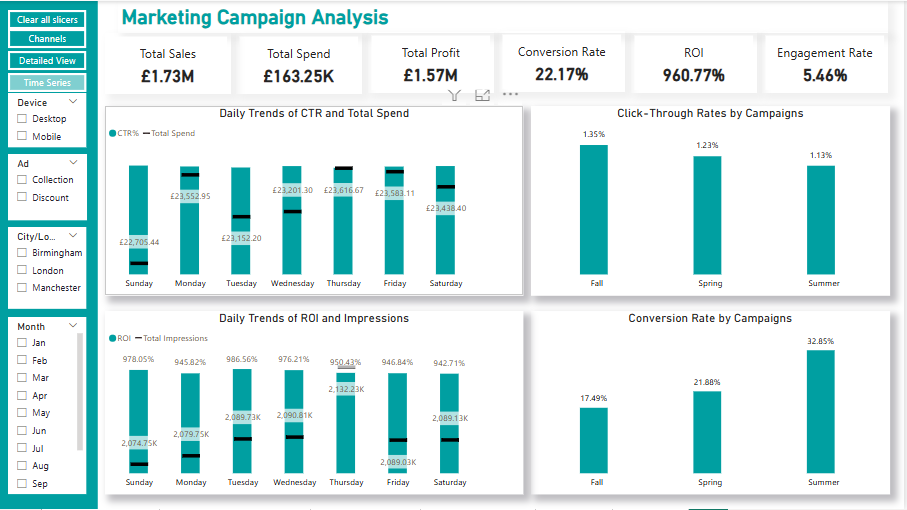

What the dashboard file says about the page in this screenshot:
{"tool":"powerbi","page":{"name":"Time Series Analysis","canvas":[1280,720],"ordinal":1},"visuals":[{"type":"shape","box":[0,0,138.6,720],"z":0},{"type":"shape","box":[138.6,132.9,1141.4,587.1],"z":1000},{"type":"shape","box":[138.6,0,1141.4,132.9],"z":2000},{"type":"lineClusteredColumnComboChart","title":"Daily Trends of CTR and Total Spend","fields":{"Y2":["data.Total Spend"],"Y":["Avg(data.CTR, %)"],"Category":["Calendar.Week"]},"box":[148.6,148.6,592.9,268.6],"z":3000},{"type":"columnChart","title":"Conversion Rate by Campaigns","fields":{"Category":["data.Campaign"],"Y":["data._ConversionRate"]},"box":[752.9,440,508.6,260],"z":4000},{"type":"lineClusteredColumnComboChart","title":"Daily Trends of ROI and Impressions ","fields":{"Category":["Calendar.Week"],"Y2":["data._TotalImpressions"],"Y":["data.ROI"]},"box":[148.6,440,592.9,260],"z":5000},{"type":"lineStackedColumnComboChart","title":"Click-Through Rates by Campaigns","fields":{"Category":["data.Campaign"],"Y":["Avg(data.CTR, %)"]},"box":[752.9,148.6,508.6,268.6],"z":6000},{"type":"slicer","fields":{"Values":["data.Device"]},"box":[11.4,130,111.4,77.1],"z":7000},{"type":"slicer","fields":{"Values":["data.Ad"]},"box":[11.3,216.9,112,93.5],"z":8000},{"type":"slicer","fields":{"Values":["data.City/Location"]},"box":[11.4,320,111.4,115.7],"z":9000},{"type":"slicer","fields":{"Values":["Calendar.MonthN"]},"box":[11.4,448.6,111.4,251.4],"z":10000},{"type":"actionButton","box":[11.4,101.4,111.4,27],"z":11000},{"type":"actionButton","box":[11.4,70.5,111.4,27.1],"z":12000},{"type":"actionButton","box":[11.4,39.5,111.4,27.1],"z":13000},{"type":"actionButton","box":[11.4,12.9,111.4,27.1],"z":14000},{"type":"textbox","box":[167.1,0,1091.4,45.7],"z":15000},{"type":"cardVisual","fields":{"Data":["Sum(data.Spend, GBP)"]},"box":[334.9,45.7,178.6,87.1],"z":16000},{"type":"cardVisual","fields":{"Data":["data.Profit"]},"box":[521.1,44.3,178.6,87.1],"z":17000},{"type":"cardVisual","fields":{"Data":["data._ConversionRate"]},"box":[707.4,42.9,178.6,87.1],"z":18000},{"type":"cardVisual","fields":{"Data":["data.ROI"]},"box":[893.7,44.3,178.6,87.1],"z":19000},{"type":"cardVisual","fields":{"Data":["data.Total Sales"]},"box":[148.6,45.7,178.6,87.1],"z":20000},{"type":"cardVisual","fields":{"Data":["data._EngagementRate"]},"box":[1080,44.3,178.6,87.1],"z":21000}]}

Visuals, with their boxes in screenshot pixels (x1, y1, x2, y2), scaled from the page's 1280x720 canvas onto the 907x510 screenshot:
shape: box(0, 0, 98, 509)
shape: box(98, 94, 906, 509)
shape: box(98, 0, 906, 94)
"Daily Trends of CTR and Total Spend" lineClusteredColumnComboChart: box(105, 105, 525, 296)
"Conversion Rate by Campaigns" columnChart: box(534, 312, 894, 496)
"Daily Trends of ROI and Impressions " lineClusteredColumnComboChart: box(105, 312, 525, 496)
"Click-Through Rates by Campaigns" lineStackedColumnComboChart: box(534, 105, 894, 296)
slicer - data.Device: box(8, 92, 87, 147)
slicer - data.Ad: box(8, 154, 87, 220)
slicer - data.City/Location: box(8, 227, 87, 309)
slicer - Calendar.MonthN: box(8, 318, 87, 496)
actionButton: box(8, 72, 87, 91)
actionButton: box(8, 50, 87, 69)
actionButton: box(8, 28, 87, 47)
actionButton: box(8, 9, 87, 28)
textbox: box(118, 0, 892, 32)
cardVisual - Sum(data.Spend, GBP): box(237, 32, 364, 94)
cardVisual - data.Profit: box(369, 31, 496, 93)
cardVisual - data._ConversionRate: box(501, 30, 628, 92)
cardVisual - data.ROI: box(633, 31, 760, 93)
cardVisual - data.Total Sales: box(105, 32, 232, 94)
cardVisual - data._EngagementRate: box(765, 31, 892, 93)
